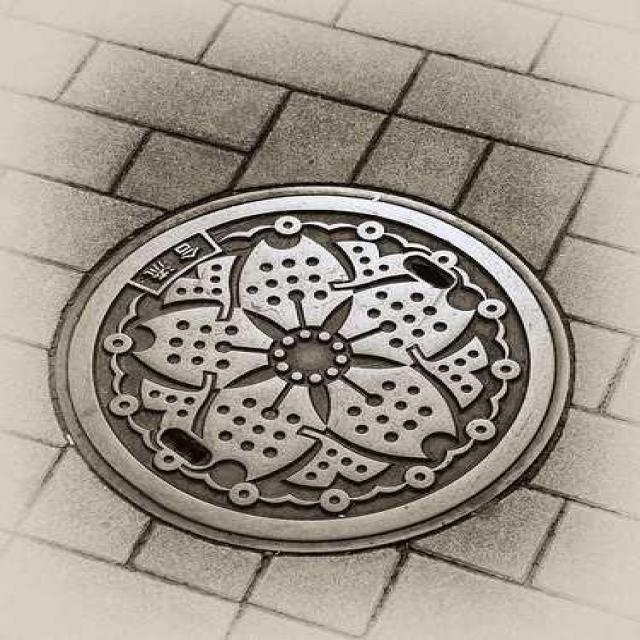manhole: (48, 184, 575, 559)
